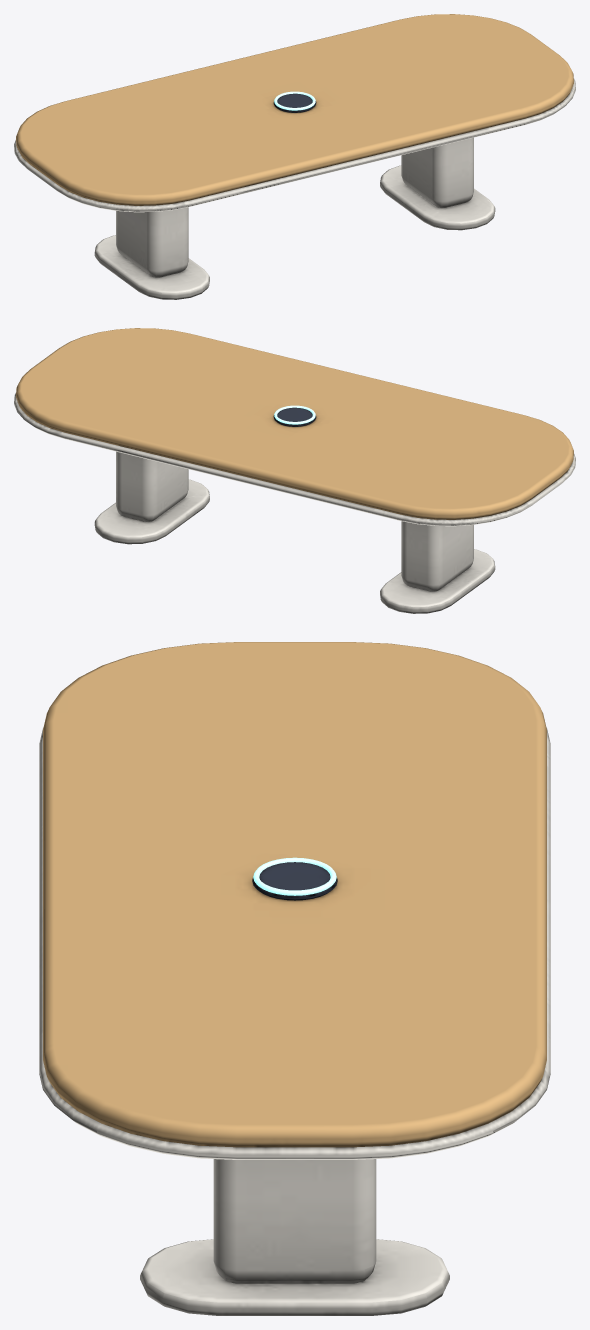
Rendered from conference_table.glb.
3 renders of one model, top to bottom at view 1: azimuth 30°, elevation 25°; view 2: azimuth 150°, elevation 25°; view 3: azimuth 270°, elevation 25°, orthographic. The views are drawn at different scales.
Parts seen in each view (by area): view 1: conference_table; view 2: conference_table; view 3: conference_table.
Boxes of the visible parts, x1,y1,x2,y2 form: conference_table: (14, 14, 575, 299); conference_table: (14, 328, 575, 613); conference_table: (39, 642, 550, 1315).
Bounding box in the file's own units: 3.02 × 0.7749 × 1.32.
Materials: 5 (4 with a texture image).
